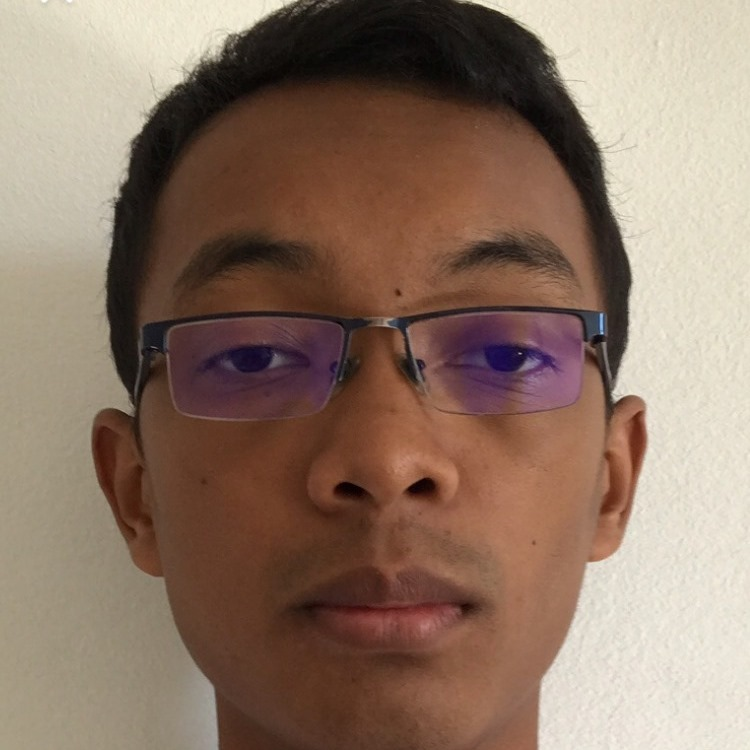BOY: (66, 1, 668, 750)
